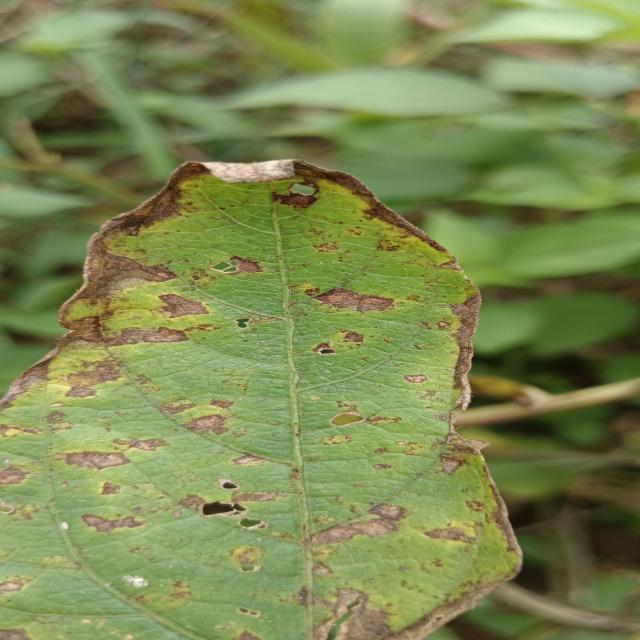Black gram_leaf spot: (0, 154, 537, 640)
